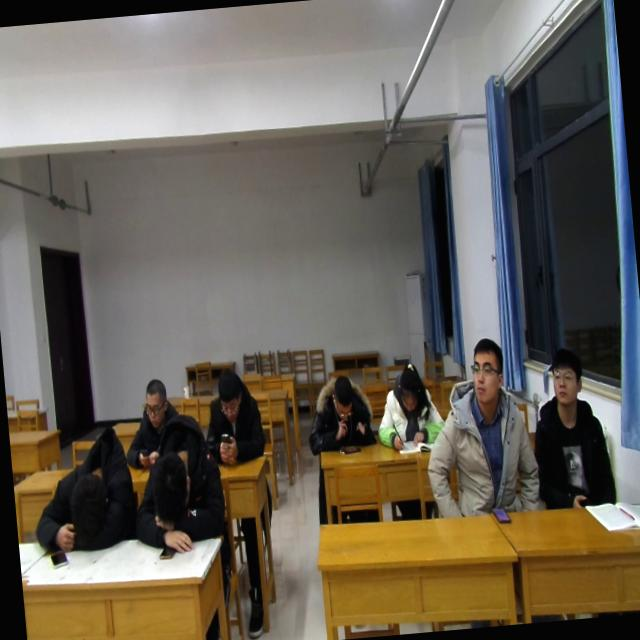bow: (123, 422, 233, 558), (26, 428, 142, 550)
down: (212, 365, 246, 424), (392, 358, 424, 416), (142, 372, 172, 432), (326, 371, 358, 425)
lookup: (465, 329, 509, 403), (543, 340, 585, 410)
sit: (412, 328, 540, 518), (526, 346, 617, 512), (198, 362, 268, 470), (371, 354, 448, 449), (118, 373, 190, 470), (305, 369, 372, 452)
